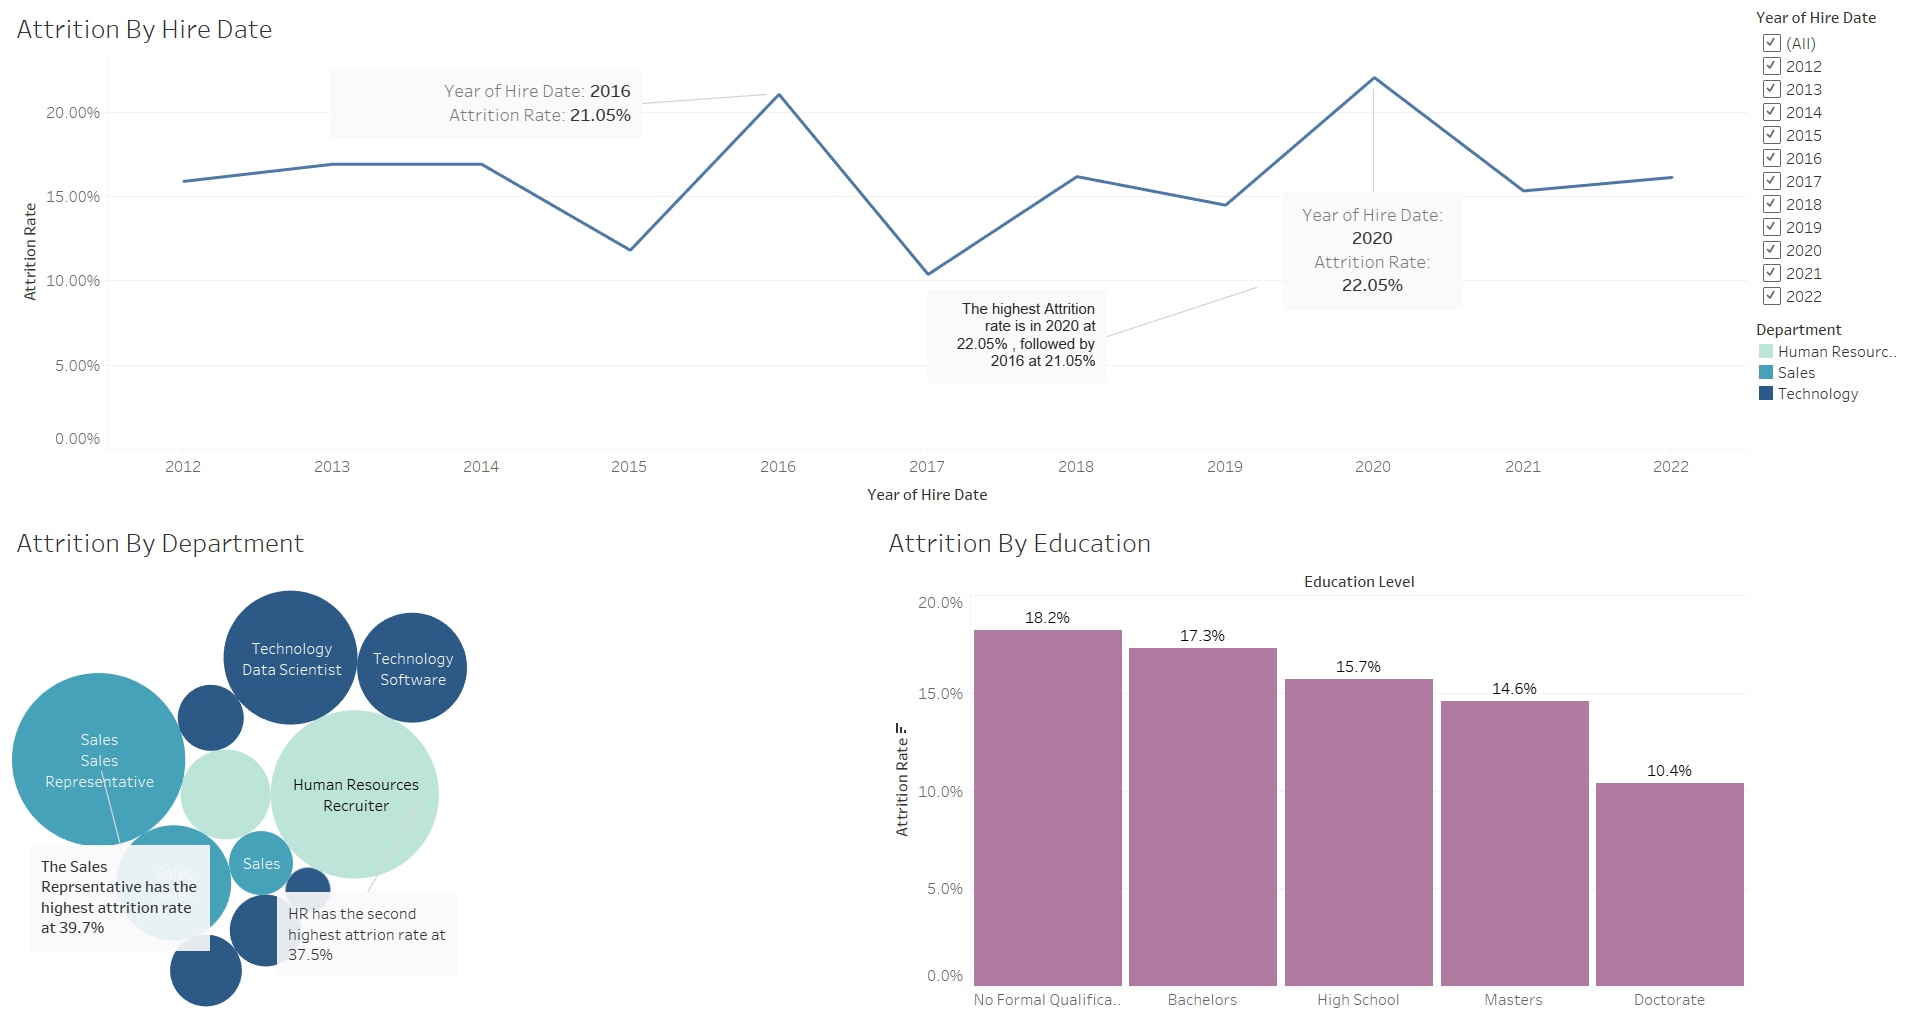

The dashboard page shown, as its layout file describes it:
{"tool":"tableau","page":{"name":"Dashboard_Attrition_3","canvas":[1000,1000],"units":"permille","ordinal":2},"visuals":[{"type":"worksheet","title":"Attrition By Hire Date","mark":"Automatic","rows":["Calculation_3725884270483316739"],"cols":["HireDate"],"box":[4.2,9.4,906.8,490.6]},{"type":"filter","title":"Attrition By Hire Date","param":"[federated.0frj53509doeau1491p3512hju7g].[yr:HireDate:ok]","box":[911,9.4,84.8,366.6]},{"type":"legend","title":"Attrition By Department","param":"[federated.0frj53509doeau1491p3512hju7g].[none:Department:nk]","box":[911,376,84.8,109.3]},{"type":"worksheet","title":"Attrition By Department","mark":"Circle","box":[4.2,500,453.4,490.6]},{"type":"worksheet","title":"Attrition By Education","mark":"Automatic","rows":["Calculation_3725884270483316739"],"cols":["EducationLevel"],"box":[457.6,500,453.4,490.6]}]}

Visuals, with their boxes on the dashboard's canvas, which has no fixed pixel size, in thousandths of its width and height (x1, y1, x2, y2). These are canvas units, not pixel positions in the 1911x1027 screenshot, which may show the page scaled, cropped or inside an application window:
"Attrition By Hire Date" worksheet: x1=4, y1=9, x2=911, y2=500
"Attrition By Hire Date" filter: x1=911, y1=9, x2=996, y2=376
"Attrition By Department" legend: x1=911, y1=376, x2=996, y2=485
"Attrition By Department" worksheet (Circle marks): x1=4, y1=500, x2=458, y2=991
"Attrition By Education" worksheet: x1=458, y1=500, x2=911, y2=991
